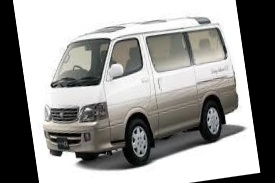van: (30, 8, 245, 162)
